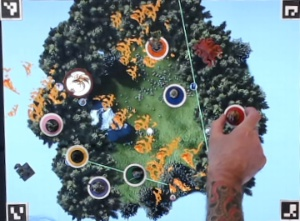blue: (162, 81, 188, 108)
green: (120, 159, 147, 187), (63, 141, 90, 168)
orange: (145, 34, 169, 60)
pink: (35, 109, 64, 137)
red: (223, 101, 248, 129)
violet: (85, 173, 109, 198)
